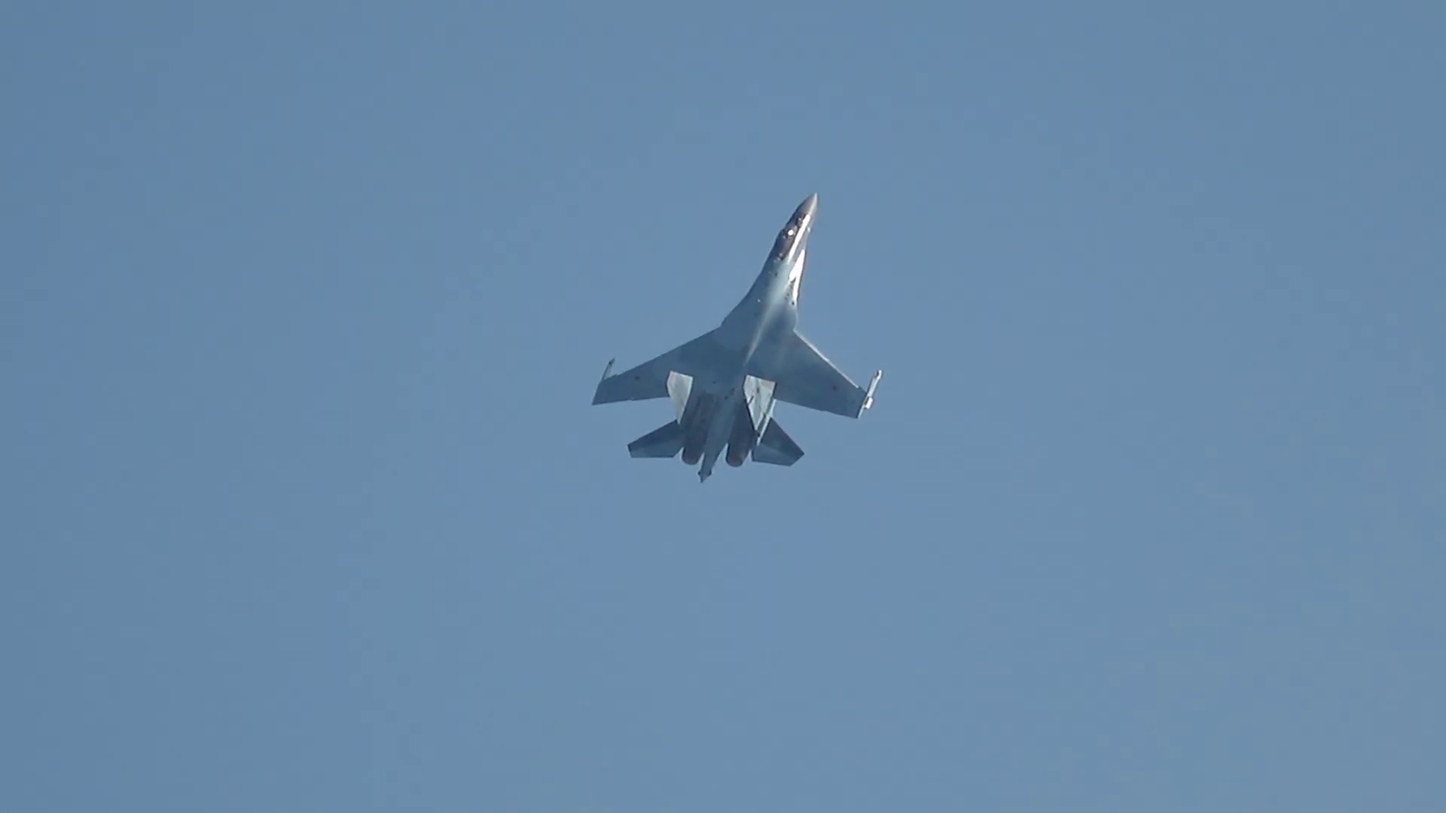Su35: (591, 192, 886, 485)
